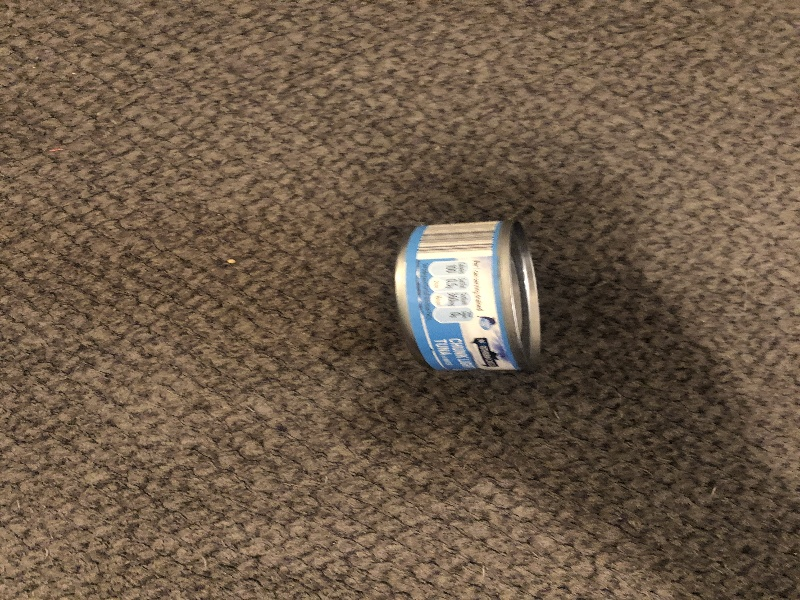metal: (391, 217, 547, 375)
